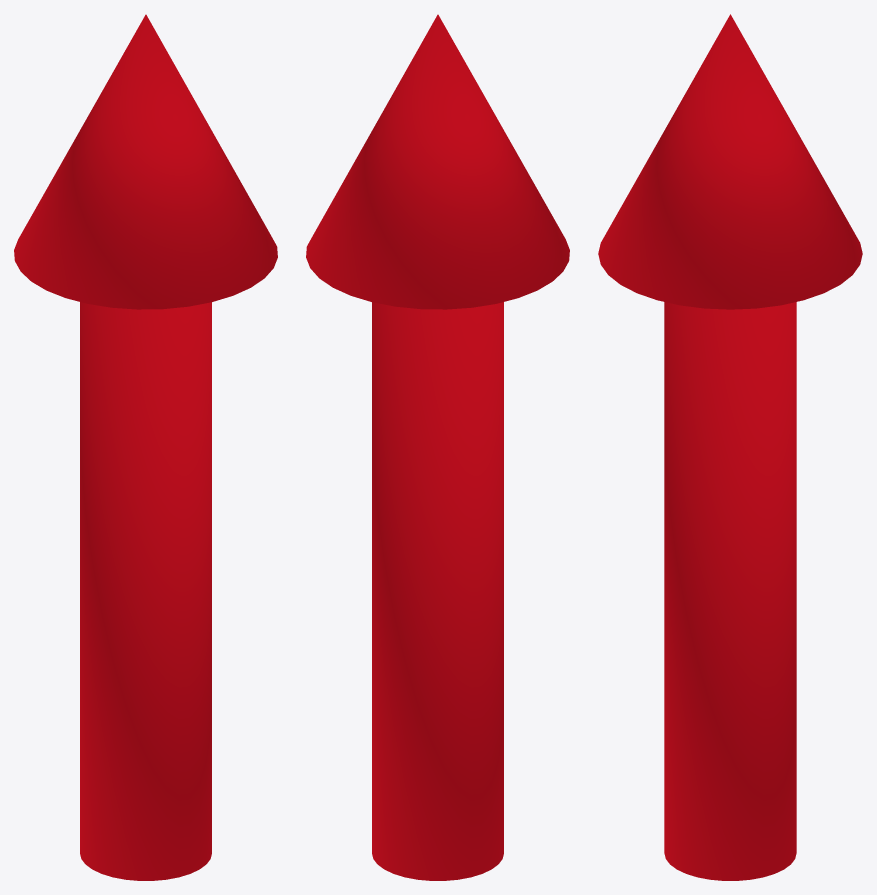
Rendered from red_cross.glb.
3 views of the same model, side by side, from view 1: azimuth 30°, elevation 25°; view 2: azimuth 150°, elevation 25°; view 3: azimuth 270°, elevation 25° (orthographic).
Visible parts, largest first — view 1: Cylinder, Cone; view 2: Cylinder, Cone; view 3: Cylinder, Cone.
Part boxes in pixels (box(x1,y1,x2,y2)): Cylinder: box(80, 302, 211, 880); Cone: box(14, 14, 277, 309); Cylinder: box(372, 302, 503, 880); Cone: box(306, 14, 569, 309); Cylinder: box(664, 302, 796, 880); Cone: box(598, 14, 862, 309).
Size of the model in its own units: 4 by 14 by 4.
